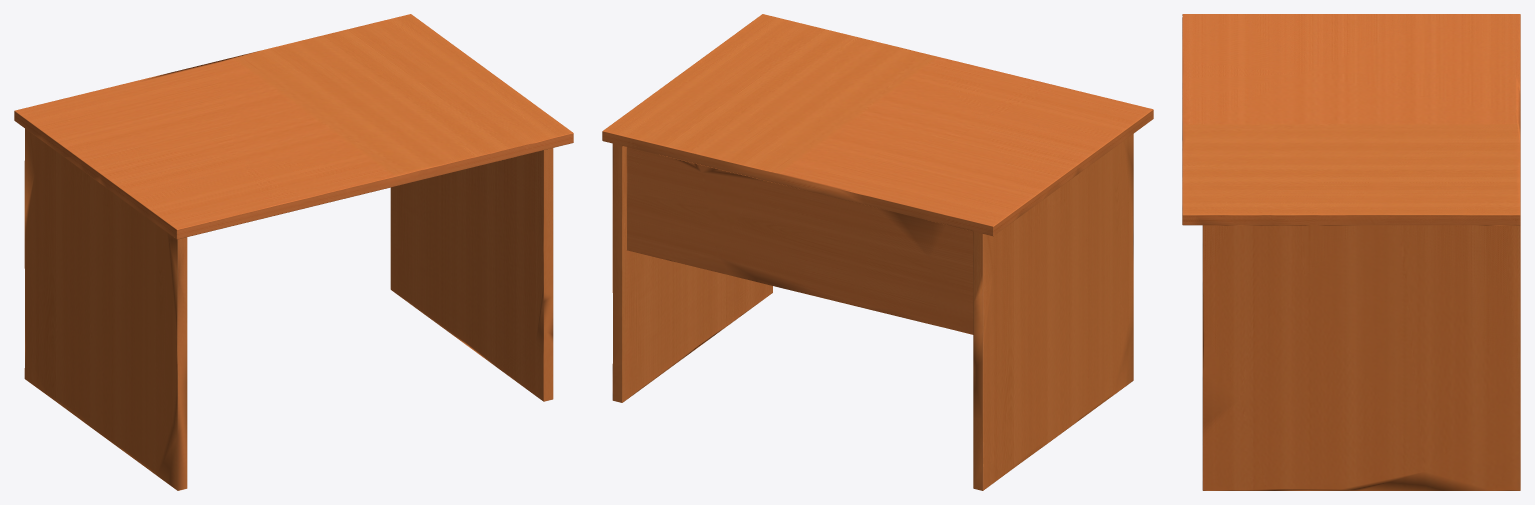
The model's file is Meshy_AI_wooden_desk3_1012142520_image-to-3d-texture.glb.
The picture shows the model from 3 angles, left to right: view 1: azimuth 30°, elevation 25°; view 2: azimuth 150°, elevation 25°; view 3: azimuth 270°, elevation 25°; orthographic projection. The views are drawn at different scales.
Size of the model in its own units: 1.9 by 1.24 by 1.35.
1 material, 1 textured.
